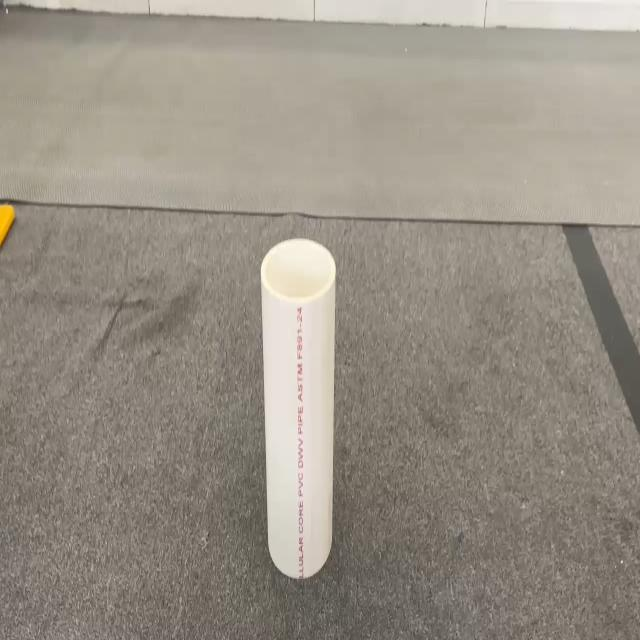coral: (260, 236, 336, 578)
